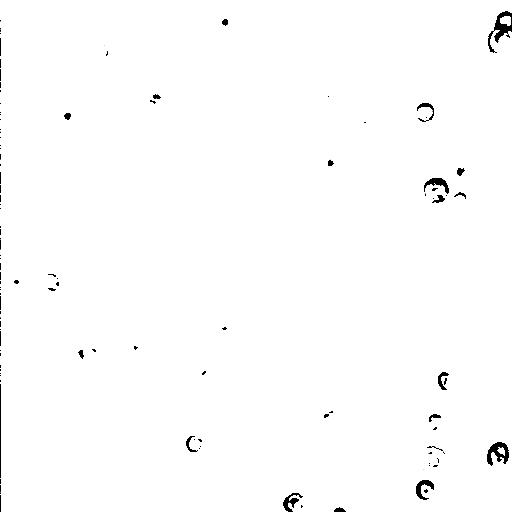micro-algae: (349, 17, 441, 107), (42, 436, 117, 511), (185, 263, 232, 311), (378, 13, 414, 57), (320, 407, 356, 443), (209, 2, 243, 38), (449, 152, 479, 192), (307, 80, 341, 113), (185, 355, 222, 385), (65, 338, 95, 373), (317, 147, 347, 180), (198, 308, 231, 337), (417, 444, 448, 474), (50, 95, 78, 127), (485, 440, 510, 471), (485, 27, 511, 56), (351, 111, 379, 137), (122, 337, 151, 362), (424, 176, 449, 204), (6, 271, 29, 297), (281, 490, 307, 512), (413, 100, 436, 123), (41, 272, 64, 293), (415, 478, 436, 501), (435, 371, 456, 393), (1, 38, 19, 62), (425, 412, 444, 433), (184, 434, 205, 452), (89, 42, 111, 59), (497, 9, 512, 32), (452, 192, 467, 209), (332, 504, 349, 512)
